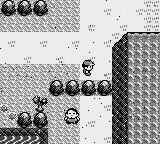captura: (1, 137, 39, 143)
main: (82, 60, 95, 76)
mo: (1, 128, 48, 143), (32, 96, 49, 111)
no-caminable: (112, 32, 160, 143), (49, 80, 111, 96), (1, 0, 48, 16), (18, 111, 49, 127)
npc: (64, 108, 80, 124)
